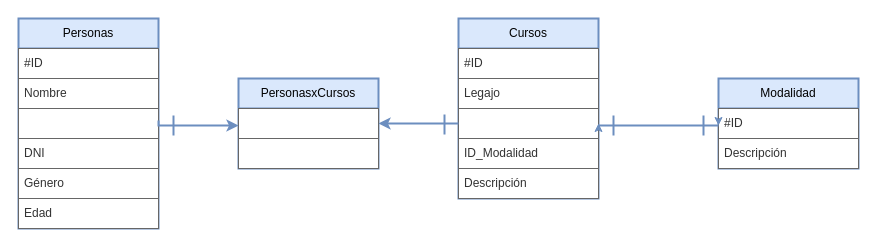
This 876x246 diagram has some shape labels left out. Each missing label, with the centre of its shape:
#ID_Cursos: the point at 308,153
#ID_Personas: the point at 308,123
Apellido: the point at 88,123
N_Usuario: the point at 528,123
